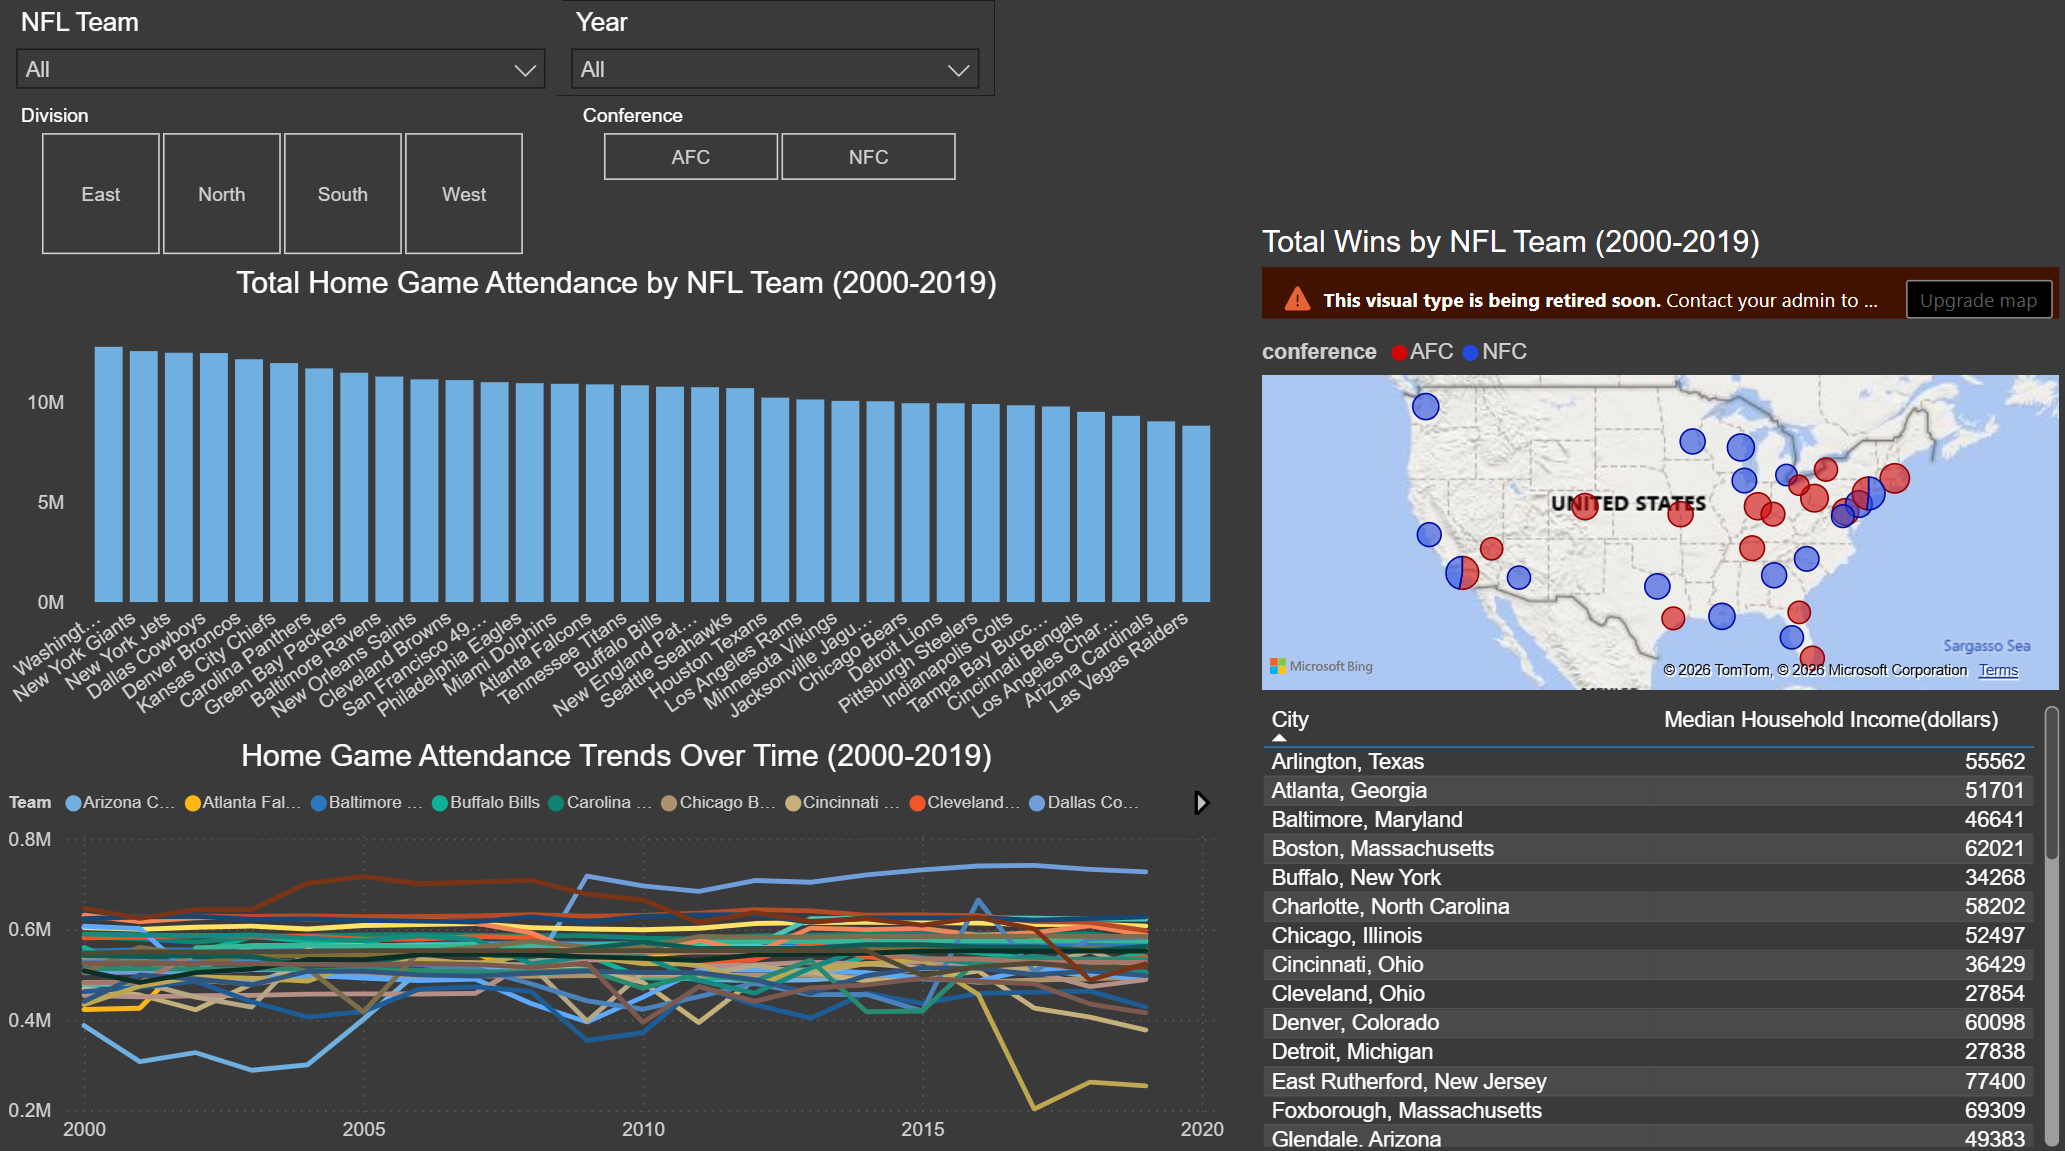

The dashboard page shown, as its layout file describes it:
{"tool":"powerbi","page":{"name":"Page 1","canvas":[1280,720],"ordinal":0},"visuals":[{"type":"map","title":"Total Wins by NFL Team (2000-2019)","fields":{"Size":["standings.Total Wins"],"Category":["NFL_team_data.location"],"Series":["NFL_team_data.conference"]},"box":[776.8,143.5,503.5,293.2],"z":0},{"type":"clusteredColumnChart","title":"Total Home Game Attendance by NFL Team (2000-2019)","fields":{"Y":["Sum(attendance.home)"],"Category":["NFL_team_data.team_name"]},"box":[0,169.1,763.7,293.2],"z":1000},{"type":"lineChart","title":"Home Game Attendance Trends Over Time (2000-2019)","fields":{"Y":["Sum(attendance.home)"],"Category":["attendance.year"],"Series":["NFL_team_data.team_name"]},"box":[0,462.3,763.7,257.7],"z":2000},{"type":"slicer","fields":{"Values":["attendance.year"]},"box":[343.8,4.4,272.7,59.3],"z":3000},{"type":"slicer","fields":{"Values":["NFL_team_data.team_name"]},"box":[0,4.4,348.1,59.3],"z":4000},{"type":"slicer","fields":{"Values":["NFL_team_data.conference"]},"box":[348.1,63.6,268.3,59.3],"z":5000},{"type":"slicer","fields":{"Values":["NFL_team_data.division"]},"box":[0,63.6,348.1,105.4],"z":6000},{"type":"tableEx","fields":{"Values":["S1901_census_cleaned.City","S1901_census_cleaned.Median Household Income(dollars)"]},"box":[776.8,436.7,503.5,283.3],"z":7000}]}

Visuals, with their boxes in screenshot pixels (x1, y1, x2, y2), scaled from the page's 1280x720 canvas onto the 2065x1151 screenshot:
"Total Wins by NFL Team (2000-2019)" map: <bbox>1253, 229, 2064, 698</bbox>
"Total Home Game Attendance by NFL Team (2000-2019)" clusteredColumnChart: <bbox>0, 270, 1232, 739</bbox>
"Home Game Attendance Trends Over Time (2000-2019)" lineChart: <bbox>0, 739, 1232, 1150</bbox>
slicer - attendance.year: <bbox>555, 7, 995, 102</bbox>
slicer - NFL_team_data.team_name: <bbox>0, 7, 562, 102</bbox>
slicer - NFL_team_data.conference: <bbox>562, 102, 994, 196</bbox>
slicer - NFL_team_data.division: <bbox>0, 102, 562, 270</bbox>
tableEx - S1901_census_cleaned.City x S1901_census_cleaned.Median Household Income(dollars): <bbox>1253, 698, 2064, 1150</bbox>
